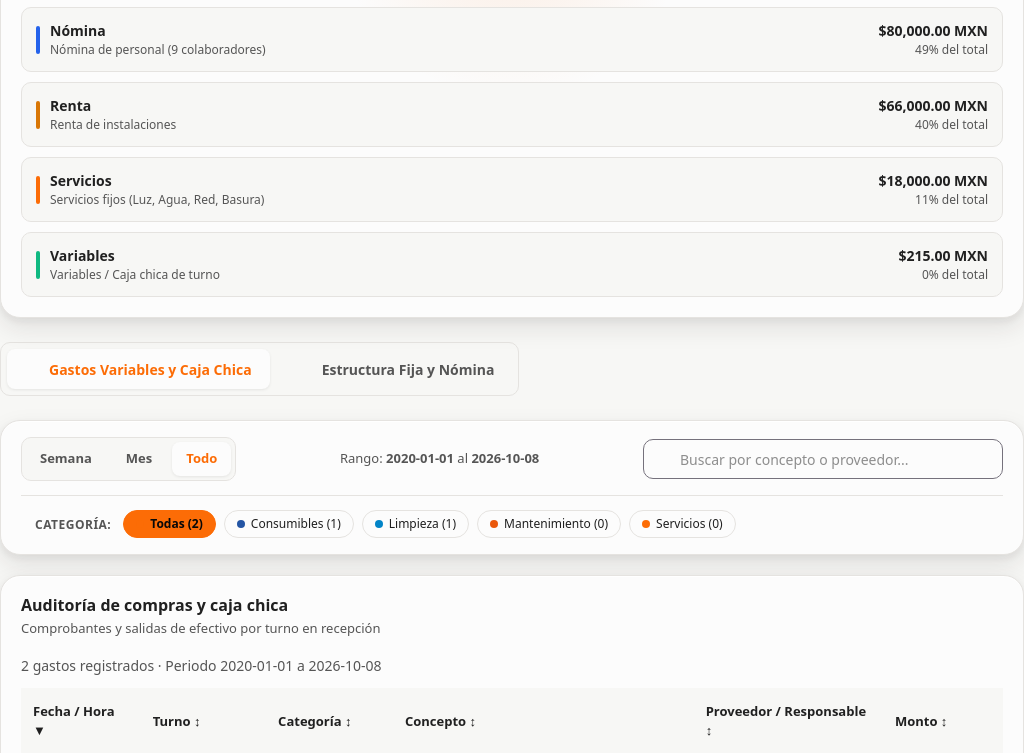
Test: ExpenseReport component › immediately reflects staff modifications in the payroll table and KPIs
(page scrolled)
What coordinates should you click on to do the following:
click the tab "Estructura Fija y Nómina"
I would click on:
 (396, 369)
Its box is [280,349,512,389].
(page scrolled)
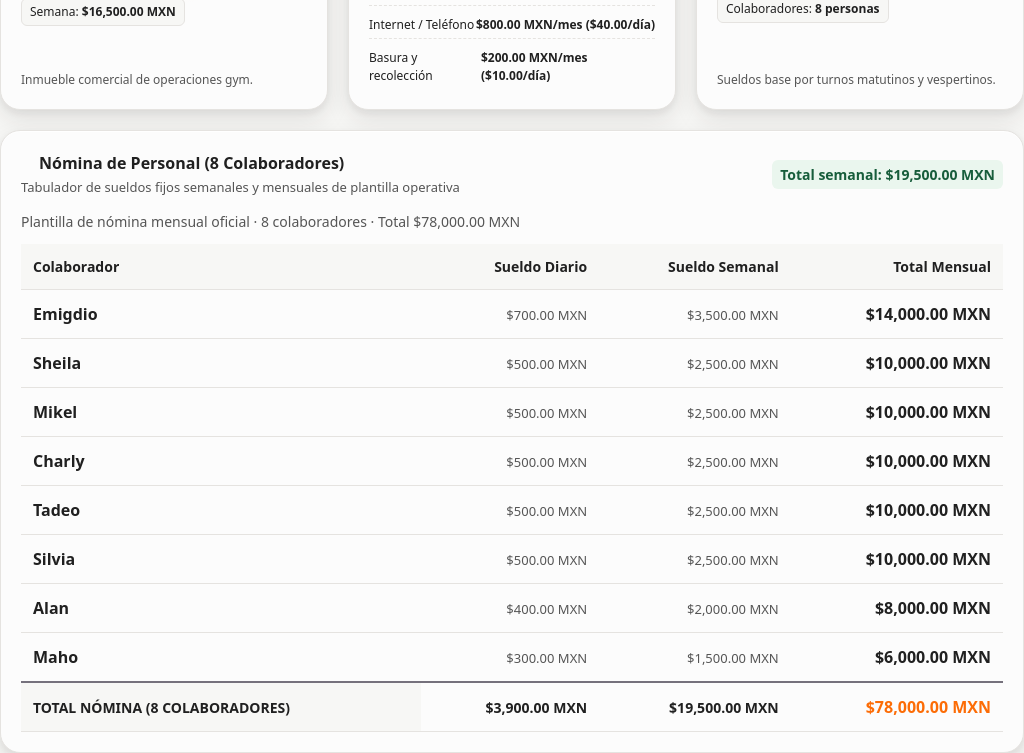
Result: the column heading "TOTAL NÓMINA (8 COLABORADORES)" is shown at [21,682,420,732]
Result: the text "$10,000.00 MXN" in the row of "Silvia" is shown at [866,548,991,570]
Result: the text "$2,500.00 MXN" in the row of "Silvia" is shown at [687,551,779,569]
